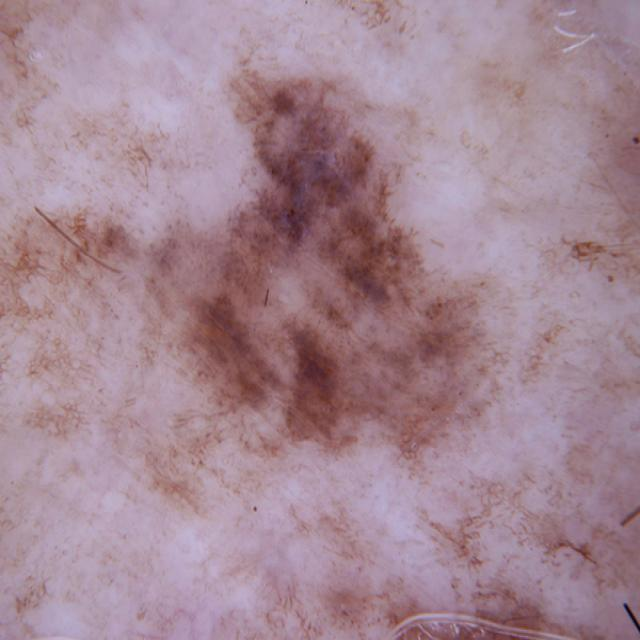Skin-Cancer Pigmented benign keratosis: (6, 8, 625, 640)
